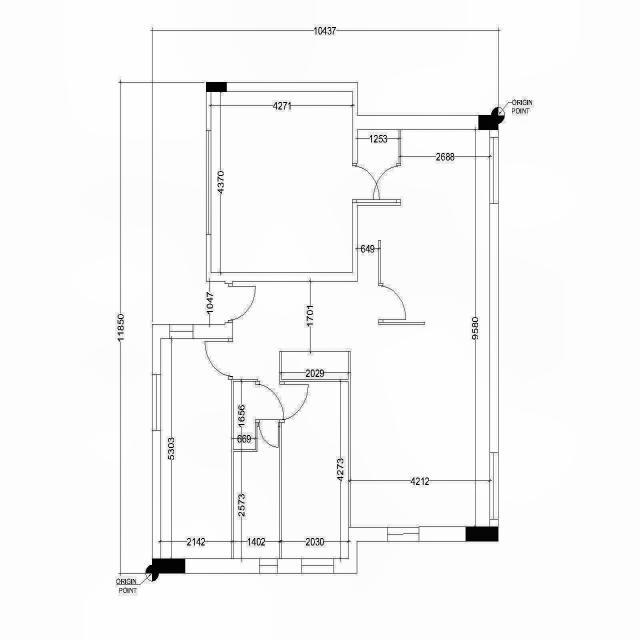Column: (152, 558, 186, 574), (466, 526, 498, 542), (478, 115, 498, 130), (206, 82, 227, 92)
Door: (204, 338, 233, 379), (256, 381, 284, 423), (280, 381, 308, 423), (378, 282, 406, 323), (352, 163, 380, 203), (373, 163, 401, 203), (228, 283, 256, 323), (257, 420, 280, 448)
Window: (489, 452, 498, 520), (489, 137, 498, 204), (206, 130, 211, 234), (387, 526, 419, 542), (302, 558, 334, 574), (152, 374, 161, 430), (170, 324, 193, 339), (259, 558, 278, 574)
